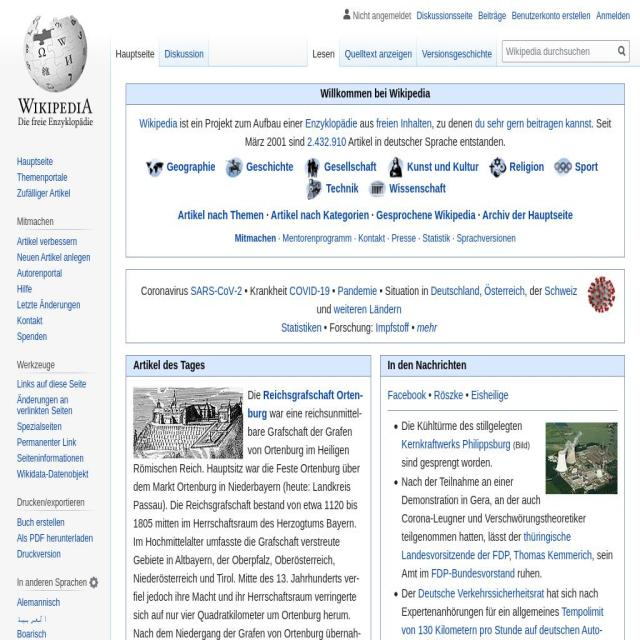button: (417, 33, 497, 67), (340, 33, 418, 67), (160, 33, 210, 67), (111, 33, 160, 67), (308, 33, 340, 67)
field: (502, 40, 630, 63), (614, 41, 630, 62), (614, 41, 630, 62)
heading: (0, 10, 116, 640), (320, 87, 430, 101), (387, 358, 467, 372), (17, 358, 99, 371), (133, 358, 206, 372), (17, 215, 99, 227), (17, 497, 99, 509), (17, 577, 89, 589)
image: (0, 0, 640, 67), (5, 0, 105, 133), (133, 385, 244, 459), (545, 422, 617, 494), (588, 275, 616, 313), (302, 156, 322, 178), (488, 156, 508, 178), (304, 178, 324, 200), (368, 178, 388, 200), (145, 156, 164, 178), (225, 156, 244, 178), (386, 156, 405, 178), (554, 156, 573, 178), (92, 577, 96, 589)
link: (401, 604, 604, 640), (401, 530, 571, 562), (248, 388, 364, 420), (418, 586, 545, 600), (475, 116, 592, 130), (401, 437, 511, 451), (270, 208, 370, 222), (376, 208, 476, 222), (17, 394, 73, 418), (482, 208, 573, 222), (178, 208, 264, 222), (431, 567, 516, 581), (513, 548, 592, 562), (407, 159, 479, 173), (511, 10, 591, 22), (334, 302, 402, 316), (17, 468, 89, 481), (17, 533, 94, 545), (17, 378, 87, 391), (17, 251, 91, 263), (282, 232, 352, 244), (17, 298, 81, 311), (17, 453, 84, 465), (389, 181, 446, 195), (377, 116, 432, 130), (305, 116, 358, 130), (324, 159, 376, 173), (190, 284, 242, 298), (456, 232, 516, 244), (17, 235, 77, 247), (17, 437, 77, 449), (166, 159, 215, 173), (431, 284, 480, 298), (416, 10, 473, 22), (246, 159, 293, 173), (17, 187, 71, 199), (17, 171, 68, 183), (17, 517, 65, 529), (17, 548, 61, 561), (290, 284, 330, 298), (338, 284, 378, 298), (484, 284, 524, 298), (281, 320, 321, 334), (387, 388, 427, 402), (307, 134, 346, 148), (17, 267, 62, 279), (17, 421, 62, 433), (140, 116, 178, 130), (17, 596, 61, 608), (471, 388, 508, 402), (509, 159, 545, 173), (234, 232, 276, 244), (544, 284, 578, 298), (376, 320, 410, 334), (326, 181, 358, 195), (17, 155, 54, 167), (434, 388, 464, 402), (596, 10, 630, 22), (17, 627, 47, 640), (17, 612, 48, 624), (17, 330, 47, 342), (17, 314, 43, 327), (358, 232, 386, 244), (422, 232, 450, 244), (478, 10, 506, 22), (575, 159, 598, 173), (391, 232, 417, 244), (417, 320, 437, 334), (17, 283, 32, 295)
text: (133, 406, 363, 640), (402, 475, 586, 544), (244, 116, 612, 148), (401, 548, 613, 581), (401, 586, 598, 618), (346, 134, 506, 148), (177, 116, 305, 130), (402, 418, 522, 432), (402, 455, 492, 469), (342, 5, 412, 22), (377, 284, 431, 298), (322, 320, 376, 334), (140, 284, 190, 298), (242, 284, 290, 298), (431, 116, 475, 130), (514, 567, 542, 581), (524, 284, 545, 298), (357, 116, 376, 130), (316, 302, 334, 316), (401, 586, 418, 600), (248, 388, 264, 402), (512, 438, 530, 450), (463, 388, 472, 402), (369, 208, 377, 222), (475, 208, 483, 222), (330, 284, 338, 298), (409, 320, 417, 334), (426, 388, 434, 402), (264, 208, 271, 222), (384, 232, 392, 244), (450, 232, 458, 244), (351, 232, 358, 244), (479, 284, 485, 298), (276, 232, 282, 244), (416, 232, 422, 244), (509, 548, 514, 562)
